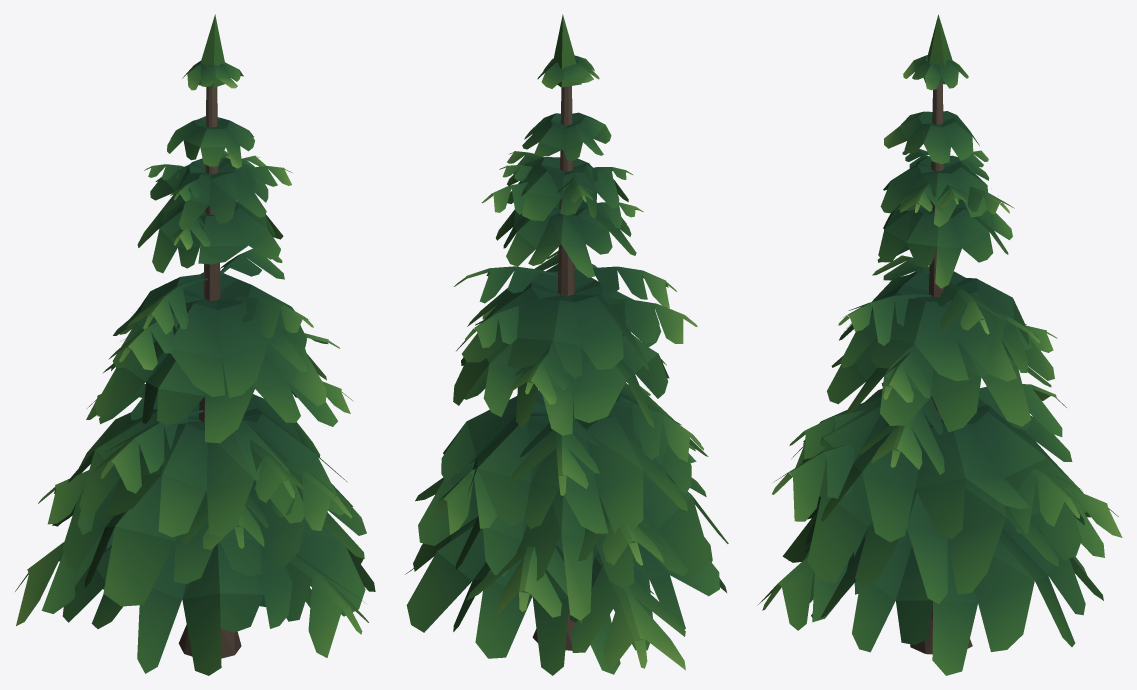
Rendered from spruce_S_normal_std_s35.glb.
The picture shows the model from 3 angles, left to right: view 1: azimuth 30°, elevation 25°; view 2: azimuth 150°, elevation 25°; view 3: azimuth 270°, elevation 25°; orthographic projection.
Parts seen in each view (by area): view 1: Tree; view 2: Tree; view 3: Tree.
Boxes of the visible parts, x1,y1,x2,y2 form: Tree: [15, 14, 375, 675]; Tree: [405, 14, 728, 675]; Tree: [757, 14, 1122, 675].
Size of what is drawn, in the model's own units: 2.03 by 3.94 by 2.07.
